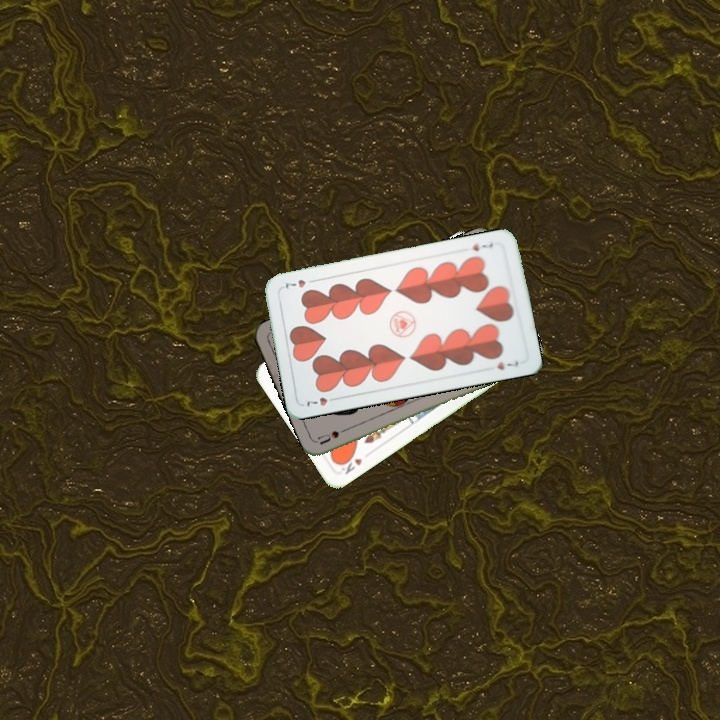H7: (302, 393, 341, 409), (468, 239, 496, 254)
HK: (336, 451, 365, 477)
SU: (315, 422, 354, 447)
